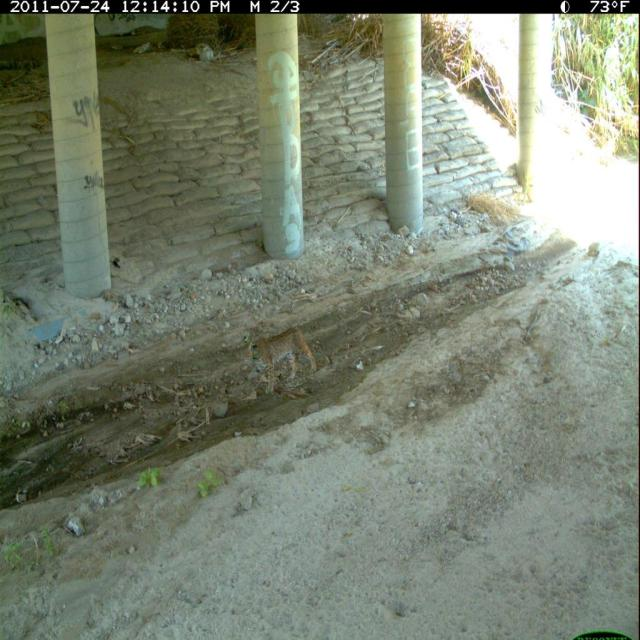bobcat: (239, 321, 319, 406)
